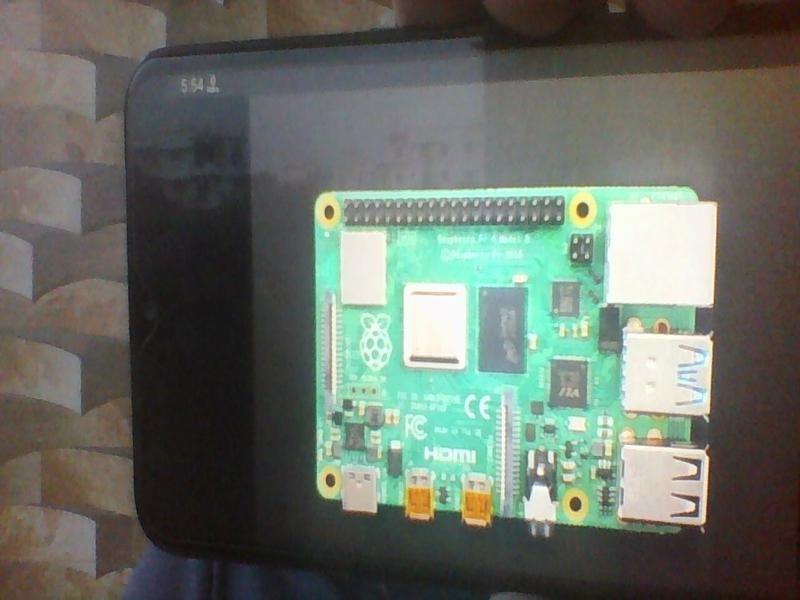aud: (522, 443, 561, 540)
eth: (603, 203, 715, 308)
usb: (617, 442, 711, 532), (620, 331, 716, 413)
